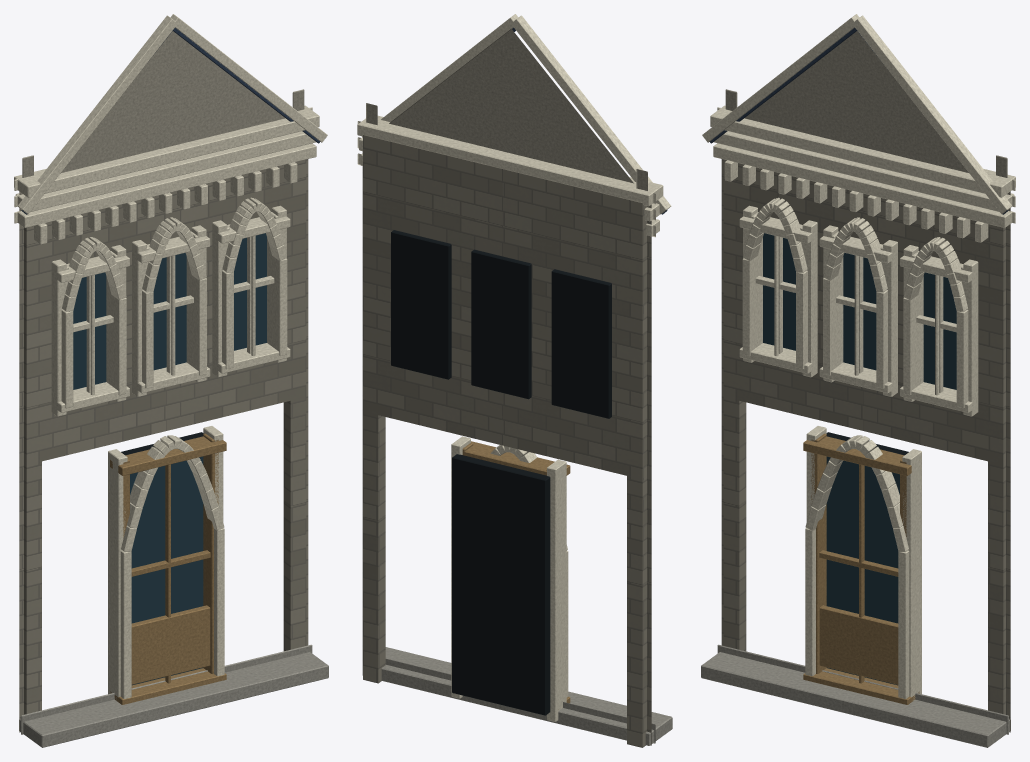
File: CLSTGA19_lod1.glb
3 views of the same model, side by side, from view 1: azimuth 30°, elevation 25°; view 2: azimuth 150°, elevation 25°; view 3: azimuth 330°, elevation 25° (orthographic).
Parts seen in each view (by area): view 1: CLSTGA19_FRONT_LOD1; view 2: CLSTGA19_FRONT_LOD1; view 3: CLSTGA19_FRONT_LOD1.
Boxes of the visible parts, box(x1,y1,x2,y2) form: CLSTGA19_FRONT_LOD1: box(14, 14, 328, 747); CLSTGA19_FRONT_LOD1: box(357, 14, 672, 747); CLSTGA19_FRONT_LOD1: box(701, 14, 1015, 747).
Size of the model in its own units: 3.93 by 8.45 by 0.68.
Materials: 9 (7 with a texture image).
